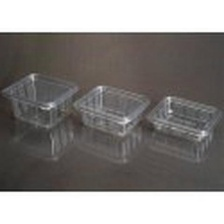plastic_box: (140, 83, 224, 153), (65, 79, 151, 142), (0, 68, 80, 135)
